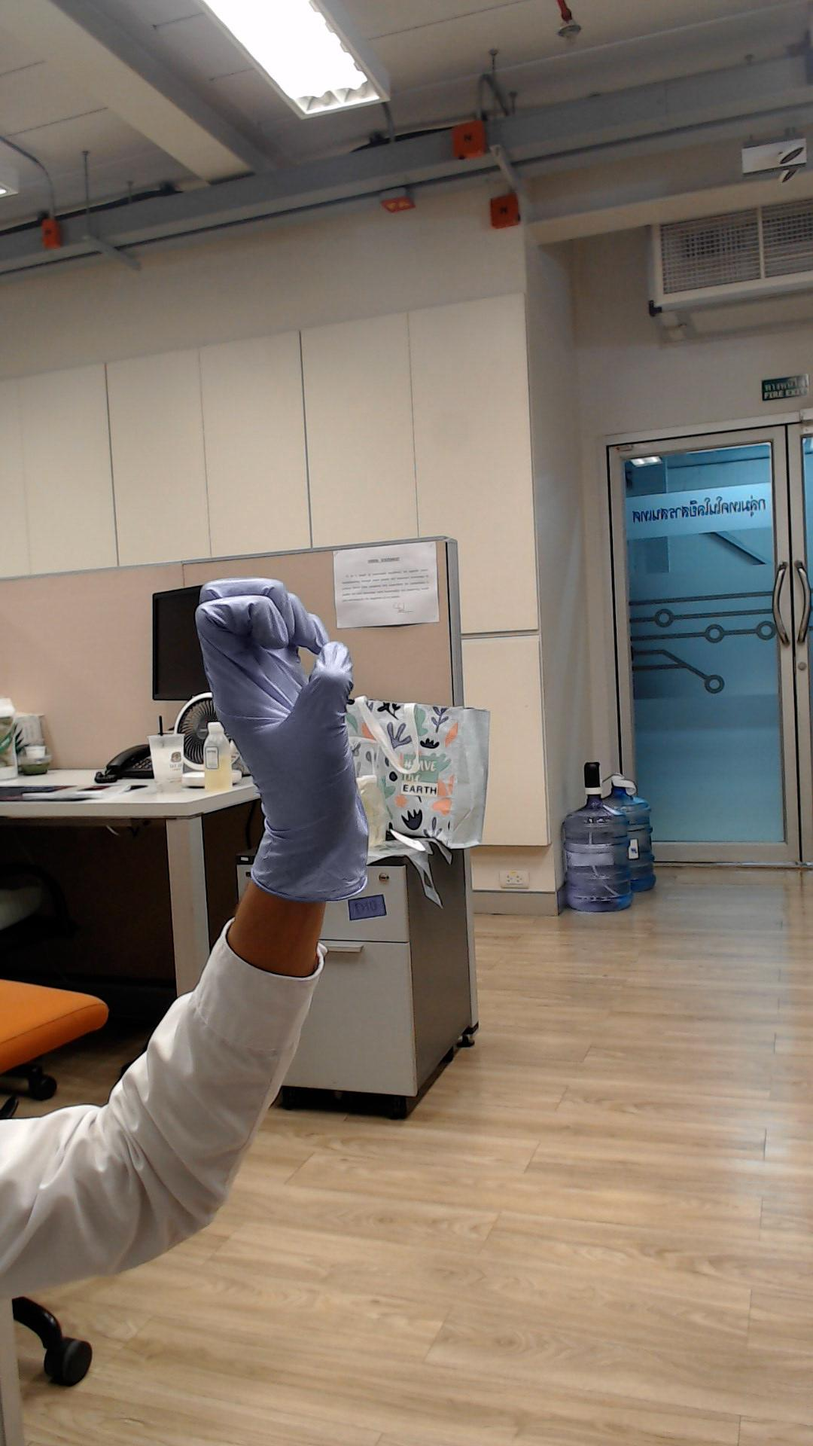gloves: (171, 550, 400, 855)
